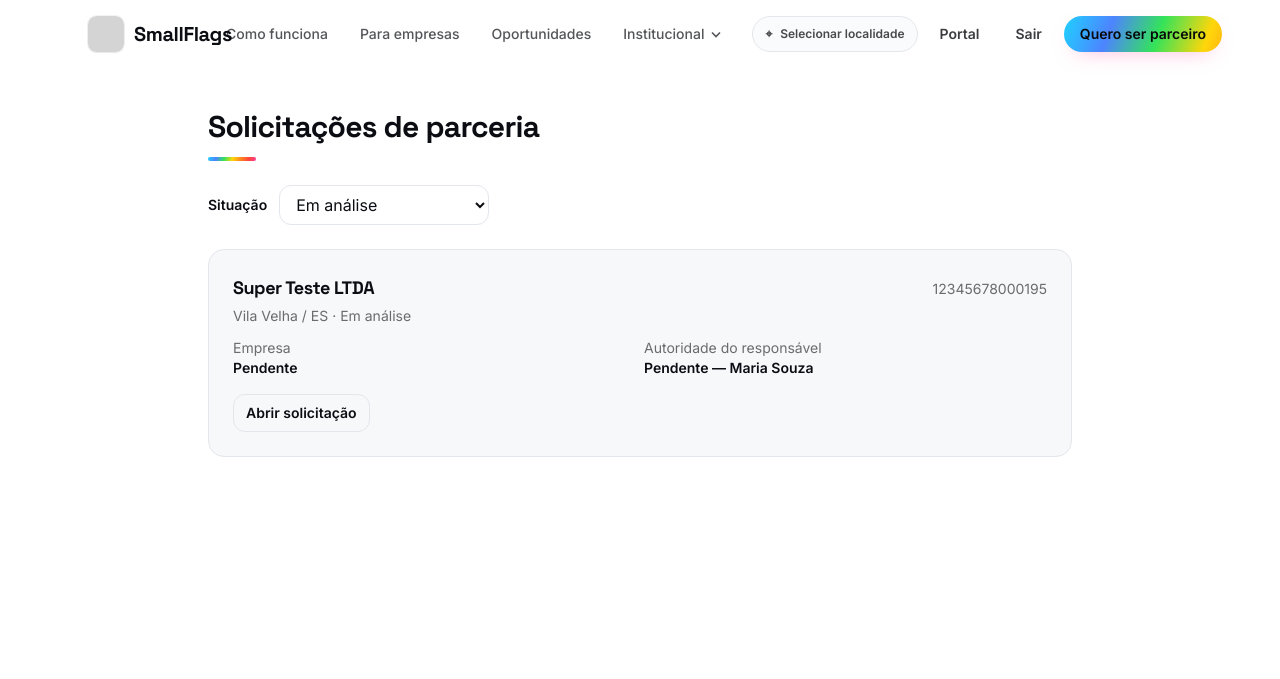
Test: B10 — listagem e detalhe › abre o detalhe com empresa, responsavel, documentos e correcoes
Step 1. Click the button "Abrir solicitação" → (301, 413), box x1=233 y1=394 x2=370 y2=432
(page scrolled)
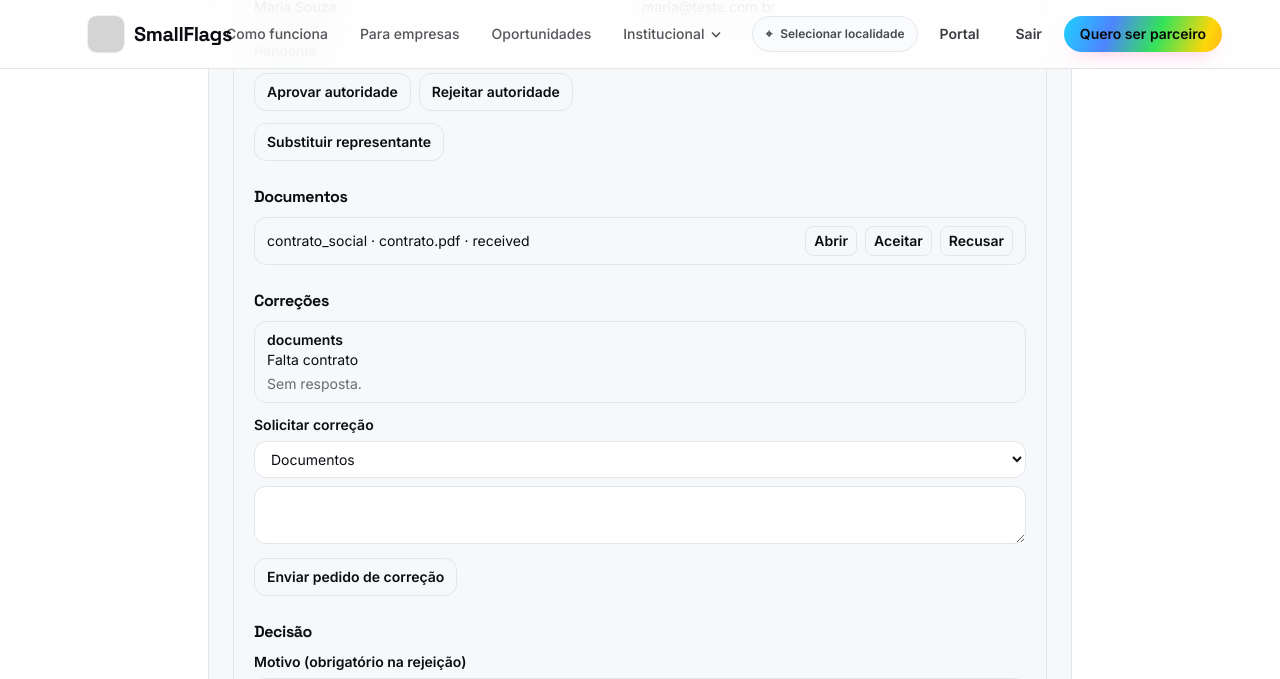
Expected: the text "contrato_social · contrato.pdf · received" is shown, x1=267 y1=231 x2=530 y2=251
Expected: the text "Falta contrato" is shown, x1=267 y1=351 x2=358 y2=368
